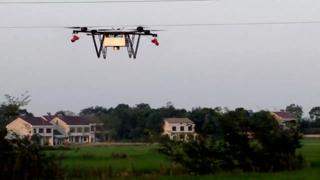UAV: (62, 25, 168, 59)
